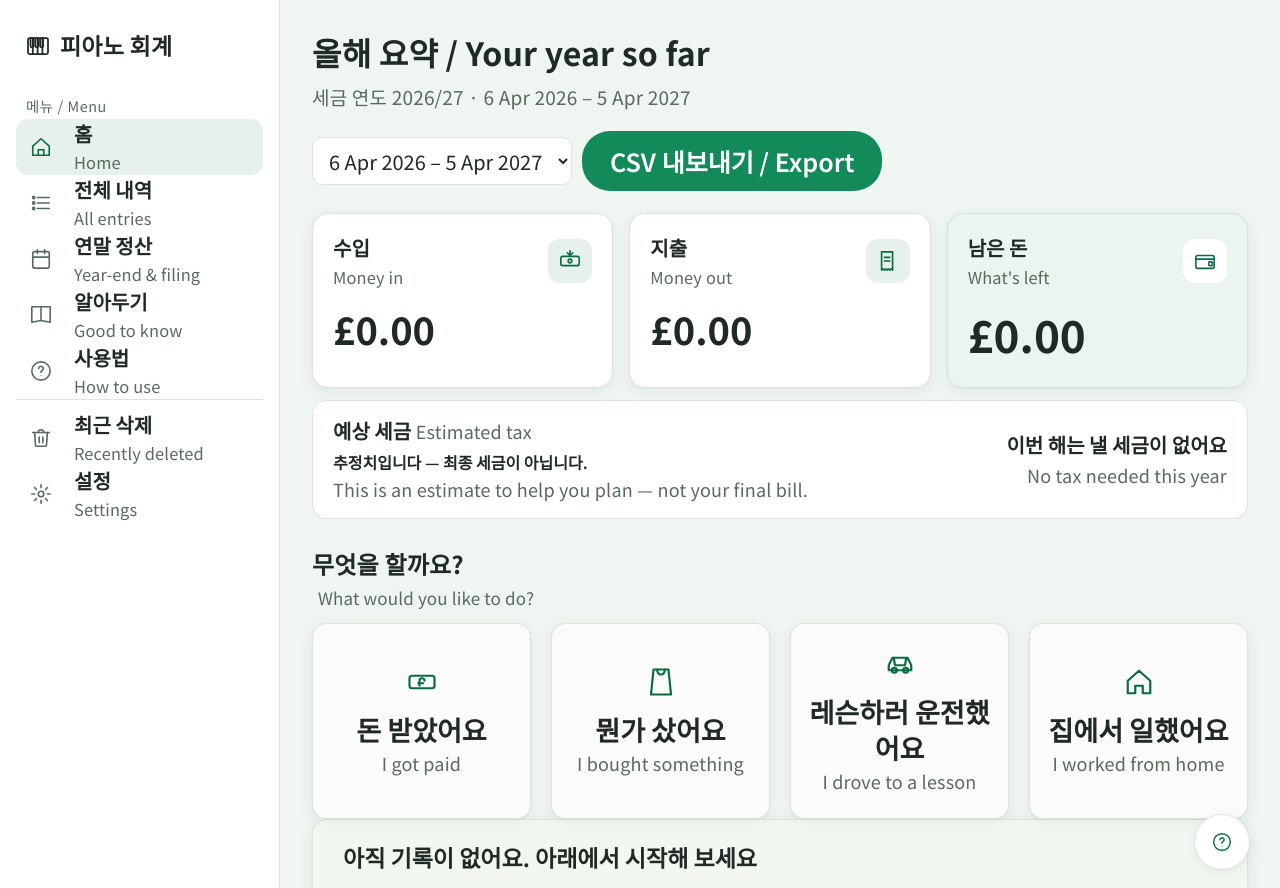
Test: HomeScreen › opens the GotPaid form in a modal and closes on done
Click the text "I got paid". click: (421, 762)
box: [382, 750, 461, 776]
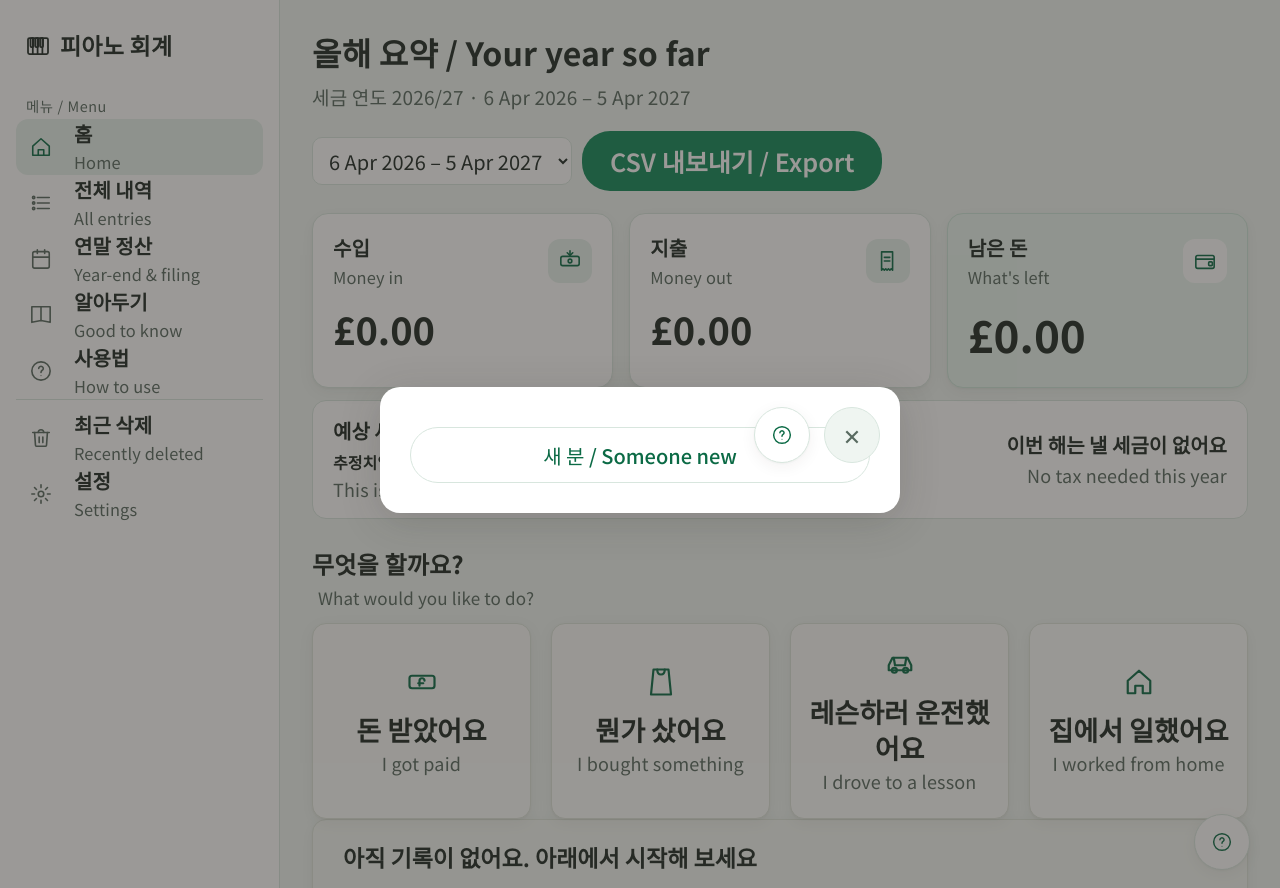
Expected: the button "새 분 / Someone new" is shown, [410, 427, 870, 483]
